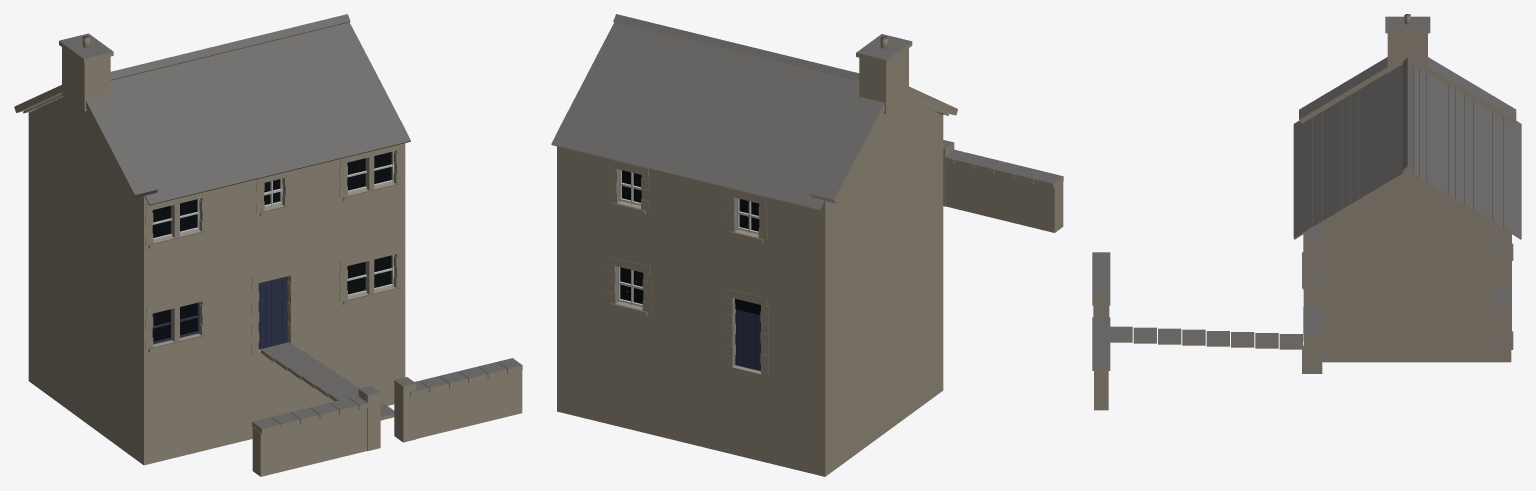
File: context.dales.house_09.glb
The picture shows the model from 3 angles, left to right: view 1: azimuth 30°, elevation 25°; view 2: azimuth 150°, elevation 25°; view 3: azimuth 270°, elevation 25°; orthographic projection. The views are drawn at different scales.
Visible parts, largest first — view 1: main__stone_a98, main__slate_666, main__glass_dark, main__paint_335, main__paint_ccc; view 2: main__stone_a98, main__slate_666, main__glass_dark, main__paint_335, main__paint_ccc; view 3: main__stone_a98, main__slate_666.
Boxes of the visible parts, <box> form: main__stone_a98: <box>14,21,522,476</box>; main__slate_666: <box>59,14,522,428</box>; main__glass_dark: <box>152,152,391,341</box>; main__paint_335: <box>152,276,287,349</box>; main__paint_ccc: <box>152,151,394,296</box>; main__stone_a98: <box>551,21,1063,476</box>; main__slate_666: <box>551,14,1063,365</box>; main__glass_dark: <box>620,170,760,314</box>; main__paint_335: <box>735,309,760,371</box>; main__paint_ccc: <box>617,169,759,306</box>; main__stone_a98: <box>1092,16,1521,410</box>; main__slate_666: <box>1092,14,1521,370</box>.
Bounding box in the file's own units: 8.52 × 11.36 × 12.75.
